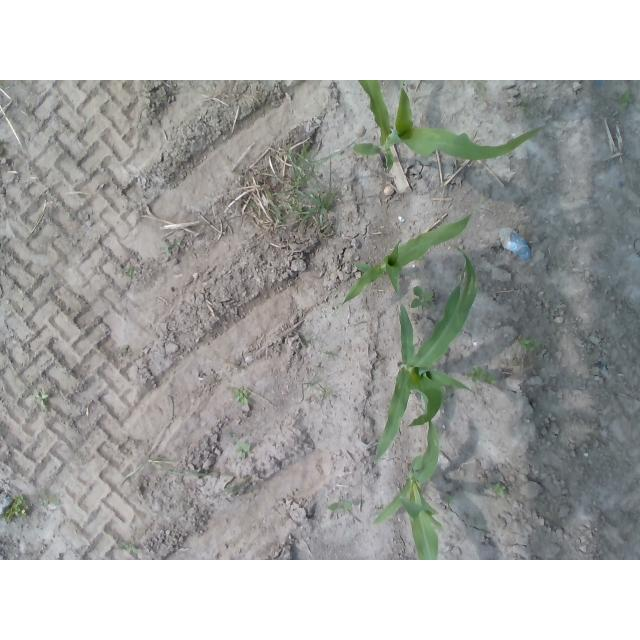Maize: (376, 245, 476, 464), (352, 80, 547, 172), (340, 198, 482, 302), (371, 389, 444, 560)
Weeds: (0, 494, 30, 525), (465, 364, 497, 385), (410, 286, 435, 310), (326, 496, 354, 514), (39, 491, 62, 509), (516, 335, 540, 352), (231, 387, 250, 406), (116, 542, 141, 555), (33, 389, 48, 410), (234, 441, 250, 460), (619, 88, 634, 108), (490, 482, 507, 499), (470, 80, 486, 96), (163, 240, 181, 253), (440, 492, 452, 505), (517, 99, 529, 111), (124, 268, 137, 277), (121, 345, 127, 355), (589, 433, 596, 439)
